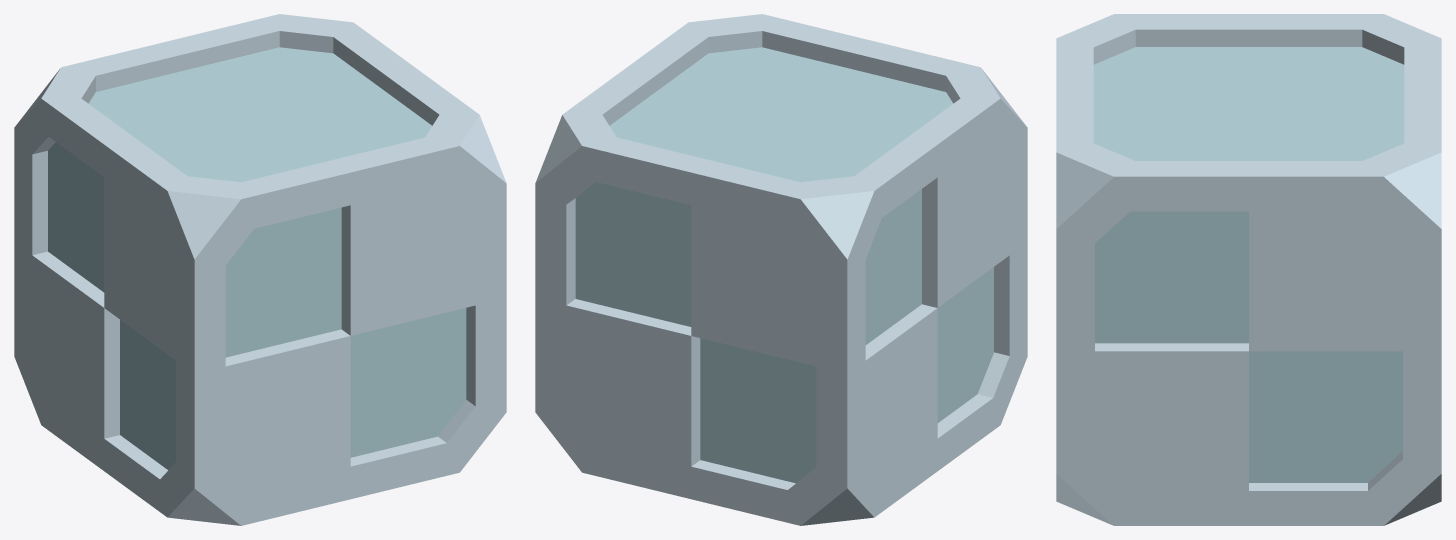
3 views of the same model, side by side, from view 1: azimuth 30°, elevation 25°; view 2: azimuth 150°, elevation 25°; view 3: azimuth 270°, elevation 25° (orthographic). The views are drawn at different scales.
Parts seen in each view (by area): view 1: box-e; view 2: box-e; view 3: box-e.
Boxes of the visible parts, x1,y1,x2,y2 form: box-e: (14,14,506,525); box-e: (535,14,1027,525); box-e: (1056,14,1441,525).
Bounding box in the file's own units: 100 × 100 × 100.
